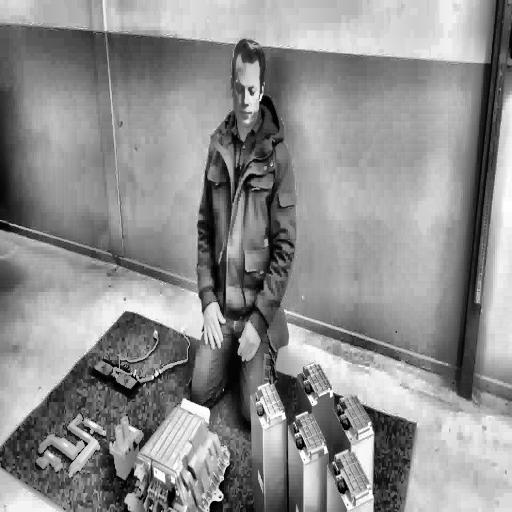battery_module: (251, 381, 290, 512), (287, 407, 329, 512), (328, 446, 375, 512), (332, 391, 376, 446), (298, 361, 336, 404)
bms_unit: (122, 396, 233, 512)
busbar: (36, 412, 107, 482)
connector: (109, 416, 142, 477)
high_volt_cable: (109, 318, 193, 391)
